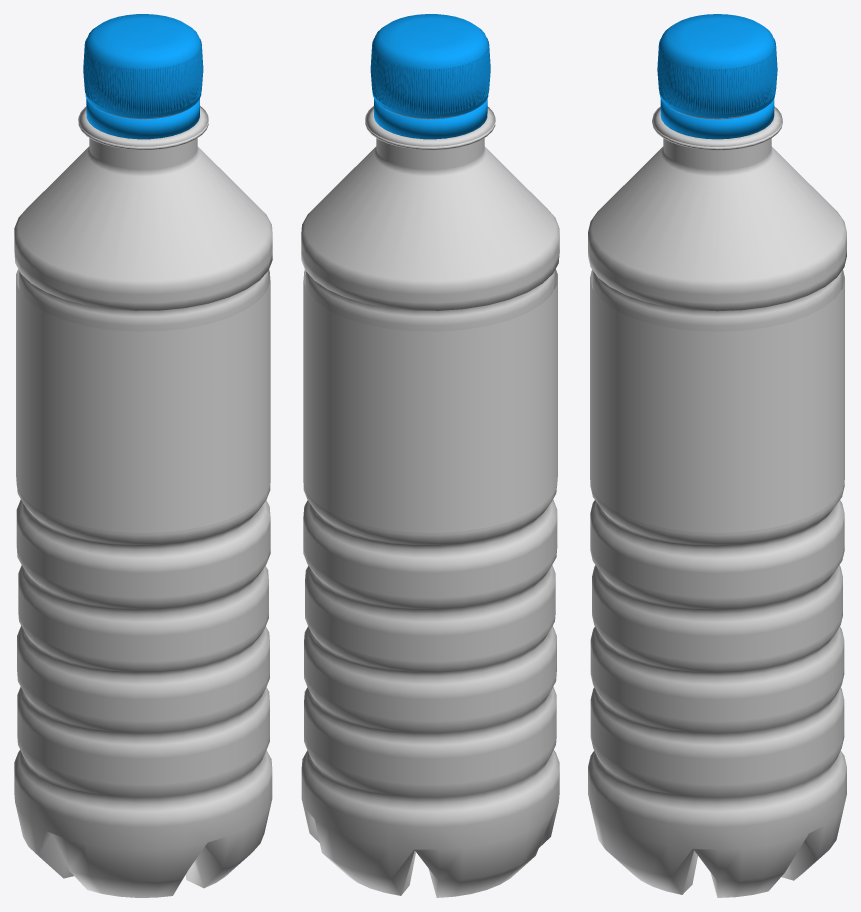
The model's file is empty_bottle.fbx.
The picture shows the model from 3 angles, left to right: view 1: azimuth 30°, elevation 25°; view 2: azimuth 150°, elevation 25°; view 3: azimuth 270°, elevation 25°; orthographic projection.
Parts seen in each view (by area): view 1: Bottle, BottleCap; view 2: Bottle, BottleCap; view 3: Bottle, BottleCap.
Part boxes in pixels (x1,y1,x2,y2): Bottle: [14, 98, 272, 897]; BottleCap: [83, 14, 203, 118]; Bottle: [301, 98, 559, 897]; BottleCap: [370, 14, 490, 118]; Bottle: [588, 99, 846, 897]; BottleCap: [657, 14, 777, 118].
Size of the model in its own units: 38.78 by 136 by 38.74.
